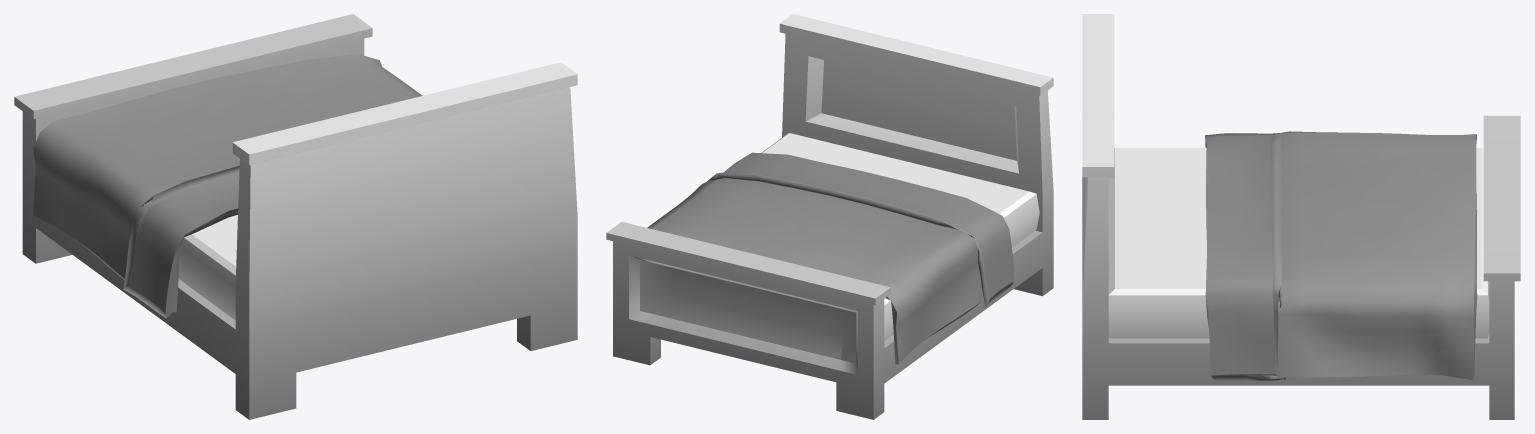
The model's file is newbed.fbx.
3 renders of one model, left to right at view 1: azimuth 30°, elevation 25°; view 2: azimuth 150°, elevation 25°; view 3: azimuth 270°, elevation 25°, orthographic. The views are drawn at different scales.
Parts seen in each view (by area): view 1: Bed, polySurface7, pCube2; view 2: Bed, polySurface7, pCube2; view 3: polySurface7, Bed, pCube2.
Boxes of the visible parts, box(x1,y1,x2,y2) form: Bed: box(14, 14, 577, 419); polySurface7: box(33, 54, 422, 318); pCube2: box(178, 215, 237, 320); Bed: box(606, 14, 1053, 419); polySurface7: box(647, 152, 1014, 364); pCube2: box(761, 133, 1039, 340); polySurface7: box(1205, 131, 1477, 381); Bed: box(1082, 14, 1520, 419); pCube2: box(1108, 148, 1489, 338).
Bounding box in the file's own units: 17.61 × 12.09 × 18.96.
